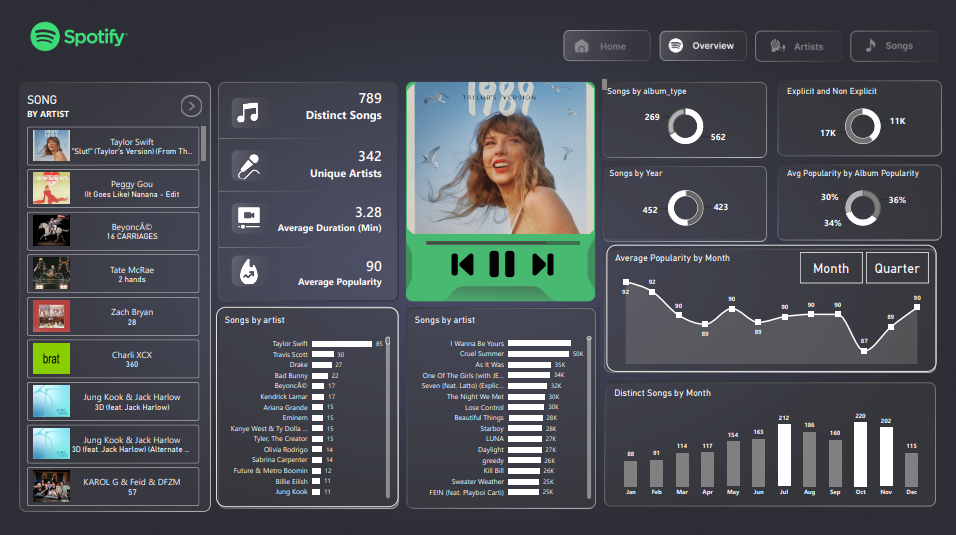

This screenshot's page, from the dashboard's own definition file:
{"tool":"powerbi","page":{"name":"Page 1","canvas":[1920,1080],"ordinal":0},"visuals":[{"type":"clusteredBarChart","title":"Songs by artist","fields":{"Y":["Table.Unique Songs"],"Category":["Top-50-world.artist"]},"box":[440.1,616.5,363.5,399.7],"z":0},{"type":"clusteredBarChart","title":"Songs by artist","fields":{"Category":["Top-50-world.song"],"Y":["Sum(Top-50-world.popularity)"]},"box":[820.6,616.5,384.8,399.7],"z":1000},{"type":"areaChart","fields":{"Category":["Top-50-world.Month","Top-50-world.Quarter"],"Y":["Table.Average Popularity"]},"box":[1220.3,493.2,659.1,253],"z":2000},{"type":"advancedSlicerVisual","fields":{"Values":["Filter_By.Filter_By"]},"box":[1607.2,508.1,257.2,61.7],"z":3000},{"type":"donutChart","title":"Songs by album_type","fields":{"Y":["Table.Unique Songs"],"Category":["Top-50-world.album_type"]},"box":[1205.4,161.6,344.4,155.2],"z":4000},{"type":"donutChart","title":"Explicit and Non Explicit","fields":{"Y":["Table.Explicit Tracks Count","Table.Non Explicit Song"]},"box":[1564.7,161.6,333.8,155.2],"z":5000},{"type":"donutChart","title":"Songs by Year","fields":{"Series":["Top-50-world.Year"],"Y":["Table.Unique Songs"]},"box":[1209.7,325.3,335.9,155.2],"z":6000},{"type":"donutChart","title":"Avg Popularity by Album Popularity","fields":{"Y":["Table.Average Popularity"],"Category":["Top-50-world.album_type"]},"box":[1564.7,325.3,333.8,155.2],"z":7000},{"type":"clusteredColumnChart","title":"Distinct Songs by Month","fields":{"Category":["Top-50-world.Month","Top-50-world.Quarter"],"Y":["Table.Unique Songs"]},"box":[1220.3,763.2,659.1,253],"z":8000},{"type":"cardVisual","fields":{"Data":["Table.Unique Songs"]},"box":[440.1,163,363.5,104.2],"z":9000},{"type":"cardVisual","fields":{"Data":["Table.Unique Artists"]},"box":[440.1,280.6,363.5,103],"z":10000},{"type":"cardVisual","fields":{"Data":["Table.Average Popularity"]},"box":[440.1,499.6,363.5,99.9],"z":11000},{"type":"cardVisual","fields":{"Data":["Table.Average Duration (Min)"]},"box":[440.1,382.7,363.5,116.9],"z":12000},{"type":"advancedSlicerVisual","title":"SONG","fields":{"Values":["Top-50-world.song"]},"box":[61.7,189.2,357.2,827],"z":13000},{"type":"advancedSlicerVisual","title":"SONG","fields":{"Values":["Top-50-world.song"]},"box":[810,161.6,410.3,318.9],"z":14000},{"type":"hundredPercentStackedBarChart","fields":{"Y":["Avg(Top-50-world.popularity)","Avg(Top-50-world.position)"]},"box":[844,442.2,338,89.3],"z":15000},{"type":"image","box":[1056.6,508.1,70.2,46.8],"z":16000},{"type":"image","box":[903.5,508.1,57.4,46.8],"z":17000},{"type":"image","box":[976,498,68,65.9],"z":18000},{"type":"actionButton","box":[340.2,189.2,99.9,53.1],"z":19000},{"type":"shape","box":[810,161.6,399.7,438],"z":20000}]}

Visuals, with their boxes in screenshot pixels (x1, y1, x2, y2):
"Songs by artist" clusteredBarChart: (x1=215, y1=309, x2=393, y2=504)
"Songs by artist" clusteredBarChart: (x1=401, y1=309, x2=589, y2=504)
areaChart - Top-50-world.Month x Top-50-world.Quarter: (x1=596, y1=249, x2=919, y2=372)
advancedSlicerVisual - Filter_By.Filter_By: (x1=786, y1=256, x2=911, y2=286)
"Songs by album_type" donutChart: (x1=589, y1=86, x2=757, y2=162)
"Explicit and Non Explicit" donutChart: (x1=765, y1=86, x2=928, y2=162)
"Songs by Year" donutChart: (x1=591, y1=166, x2=755, y2=242)
"Avg Popularity by Album Popularity" donutChart: (x1=765, y1=166, x2=928, y2=242)
"Distinct Songs by Month" clusteredColumnChart: (x1=596, y1=380, x2=919, y2=504)
cardVisual - Table.Unique Songs: (x1=215, y1=87, x2=393, y2=138)
cardVisual - Table.Unique Artists: (x1=215, y1=145, x2=393, y2=195)
cardVisual - Table.Average Popularity: (x1=215, y1=252, x2=393, y2=300)
cardVisual - Table.Average Duration (Min): (x1=215, y1=195, x2=393, y2=252)
"SONG" advancedSlicerVisual: (x1=30, y1=100, x2=205, y2=504)
"SONG" advancedSlicerVisual: (x1=396, y1=86, x2=596, y2=242)
hundredPercentStackedBarChart - Avg(Top-50-world.popularity) x Avg(Top-50-world.position): (x1=413, y1=224, x2=578, y2=267)
image: (x1=516, y1=256, x2=551, y2=279)
image: (x1=442, y1=256, x2=470, y2=279)
image: (x1=477, y1=251, x2=510, y2=283)
actionButton: (x1=166, y1=100, x2=215, y2=126)
shape: (x1=396, y1=86, x2=591, y2=301)
